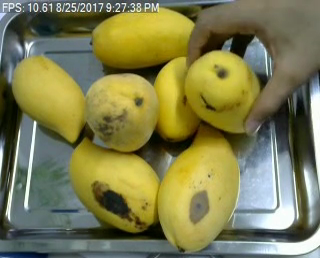Mango: (157, 122, 239, 251), (68, 138, 162, 231), (90, 7, 205, 68), (12, 54, 88, 140), (184, 50, 260, 133), (80, 73, 157, 152), (154, 55, 199, 140)
